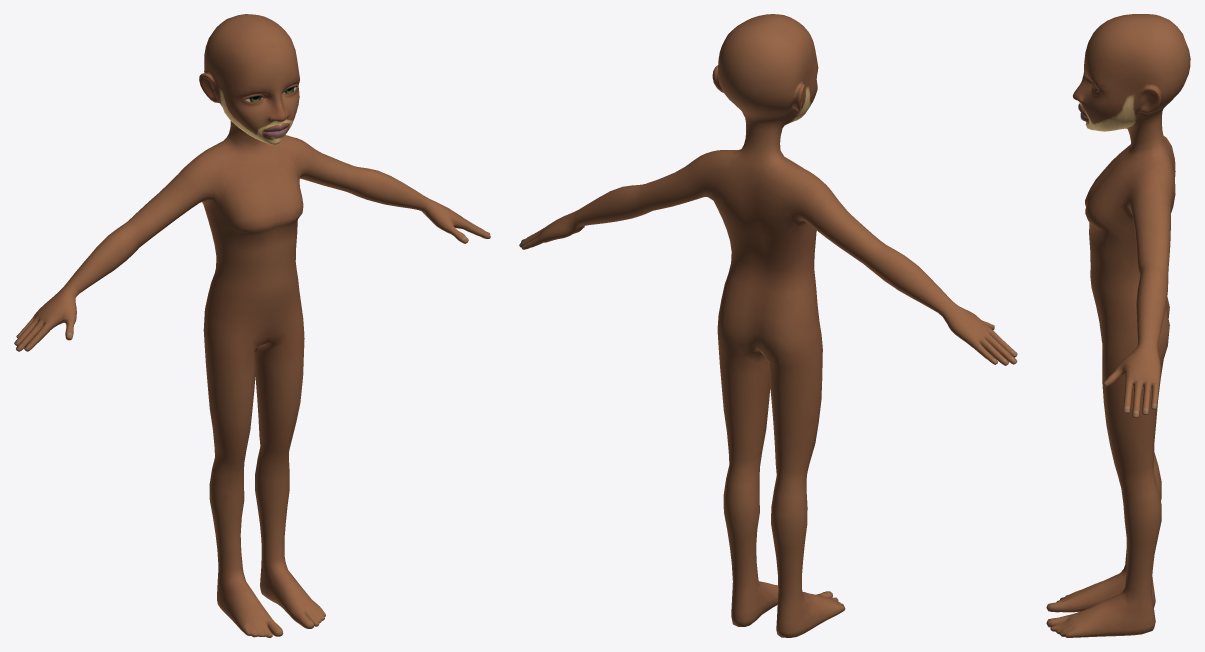
File: frame_0035.glb
3 renders of one model, left to right at view 1: azimuth 30°, elevation 25°; view 2: azimuth 150°, elevation 25°; view 3: azimuth 270°, elevation 25°, orthographic. The views are drawn at different scales.
Visible parts, largest first — view 1: frame_0035_head_geo; view 2: frame_0035_head_geo; view 3: frame_0035_head_geo.
Part boxes in pixels (box(x1,y1,x2,y2)): frame_0035_head_geo: box(14, 14, 490, 637); frame_0035_head_geo: box(519, 14, 1017, 637); frame_0035_head_geo: box(1046, 14, 1190, 637).
Size of the model in its own units: 1.28 by 1.5 by 0.3253.
Materials: 3 (3 with a texture image).
